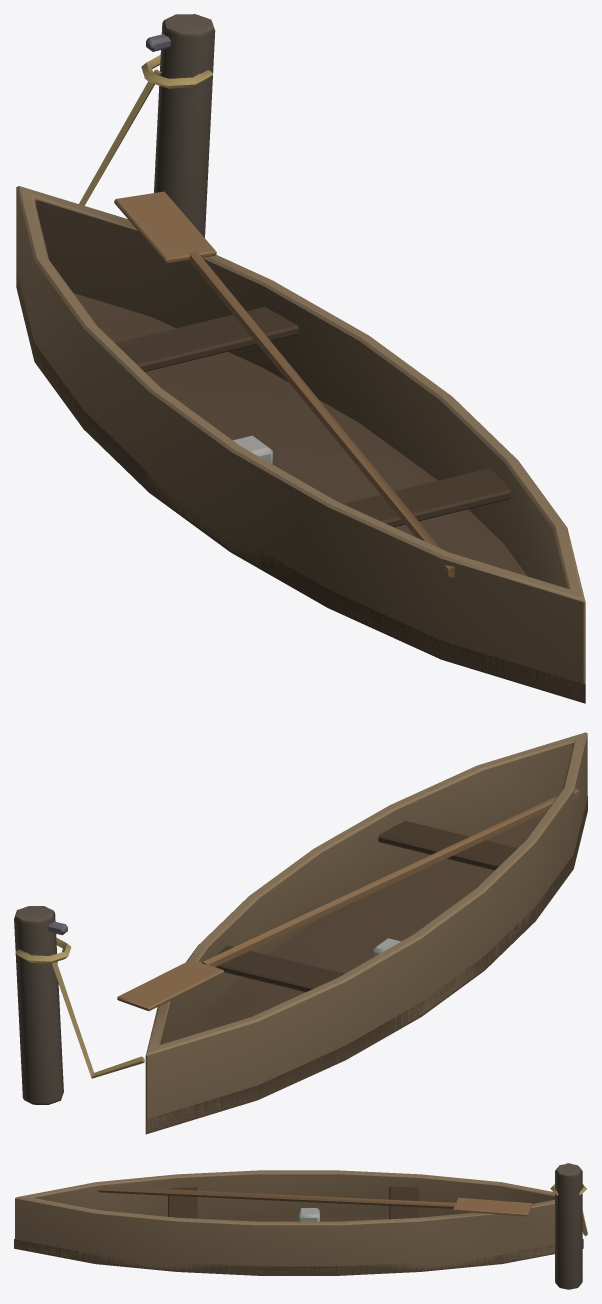
Rendered from pirogue_dock.glb.
3 renders of one model, top to bottom at view 1: azimuth 30°, elevation 25°; view 2: azimuth 150°, elevation 25°; view 3: azimuth 270°, elevation 25°, orthographic. The views are drawn at different scales.
Visible parts, largest first — view 1: pirogue_dock; view 2: pirogue_dock; view 3: pirogue_dock.
Part boxes in pixels (x1,y1,x2,y2): pirogue_dock: (16, 14, 585, 703); pirogue_dock: (14, 732, 587, 1134); pirogue_dock: (14, 1163, 587, 1289).
Size of the model in its own units: 0.8013 by 0.6219 by 2.72.
